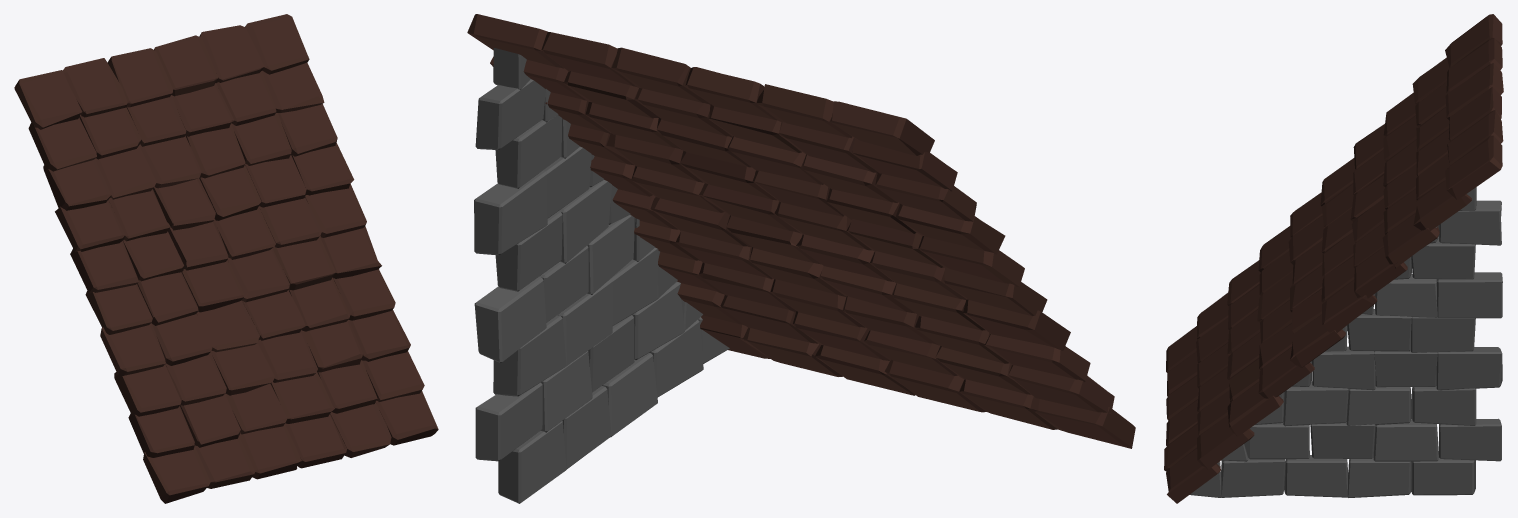
File: BrickWall-Stone-Roof-Right.fbx
3 renders of one model, left to right at view 1: azimuth 30°, elevation 25°; view 2: azimuth 150°, elevation 25°; view 3: azimuth 270°, elevation 25°, orthographic. The views are drawn at different scales.
Visible parts, largest first — view 1: Cube; view 2: Cube, Stone Base wall.001; view 3: Cube, Stone Base wall.001.
Part boxes in pixels (x1=…): Cube: x1=14, y1=14, x2=438, y2=503; Cube: x1=467, y1=14, x2=1135, y2=448; Stone Base wall.001: x1=474, y1=48, x2=729, y2=503; Cube: x1=1164, y1=14, x2=1503, y2=503; Stone Base wall.001: x1=1189, y1=187, x2=1502, y2=497.
Bounding box in the file's own units: 883 × 973 × 857.
